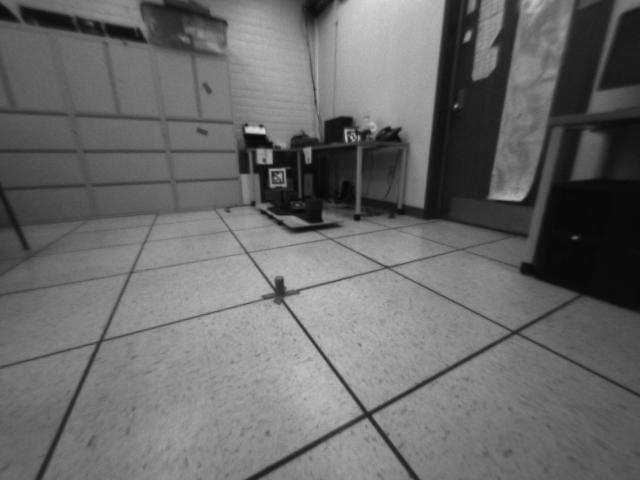X: (260, 275, 300, 306)
